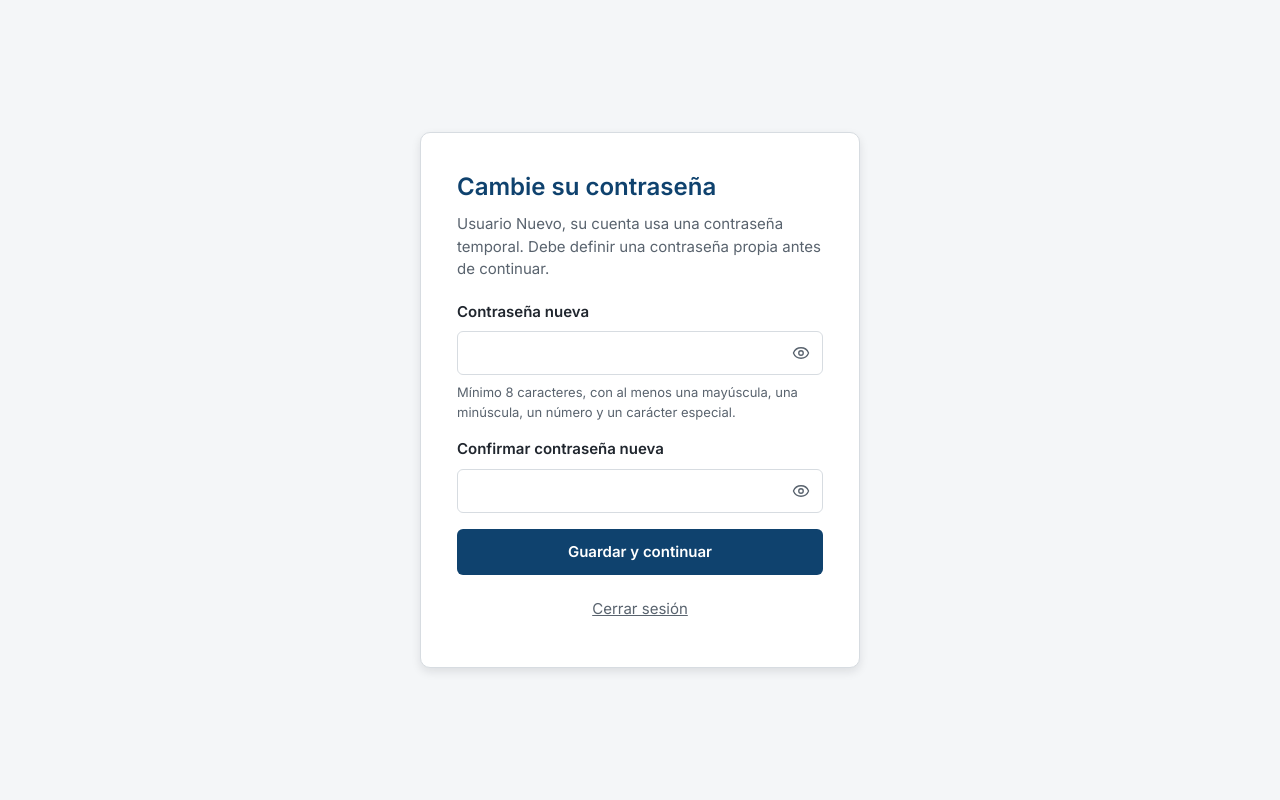
HU-044 - Cambio obligatorio de contraseña en el primer ingreso › definir la contraseña nueva › con exito, guarda, baja la bandera y entra a la aplicacion
In the password field labelled "Contraseña nueva": (640, 353) [457,331,823,375], type "NuevaClave2026!"
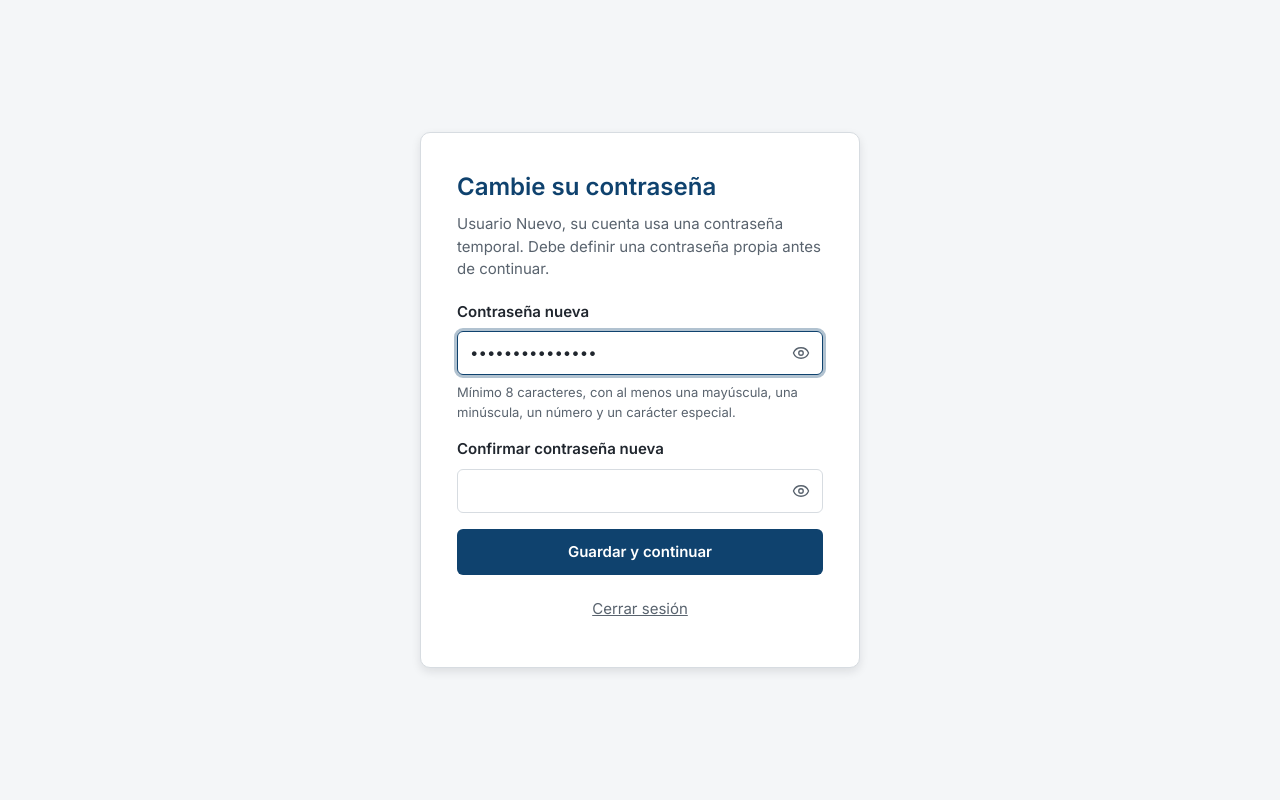
In the password field labelled "Confirmar contraseña nueva": (640, 491) [457,469,823,513], type "NuevaClave2026!"
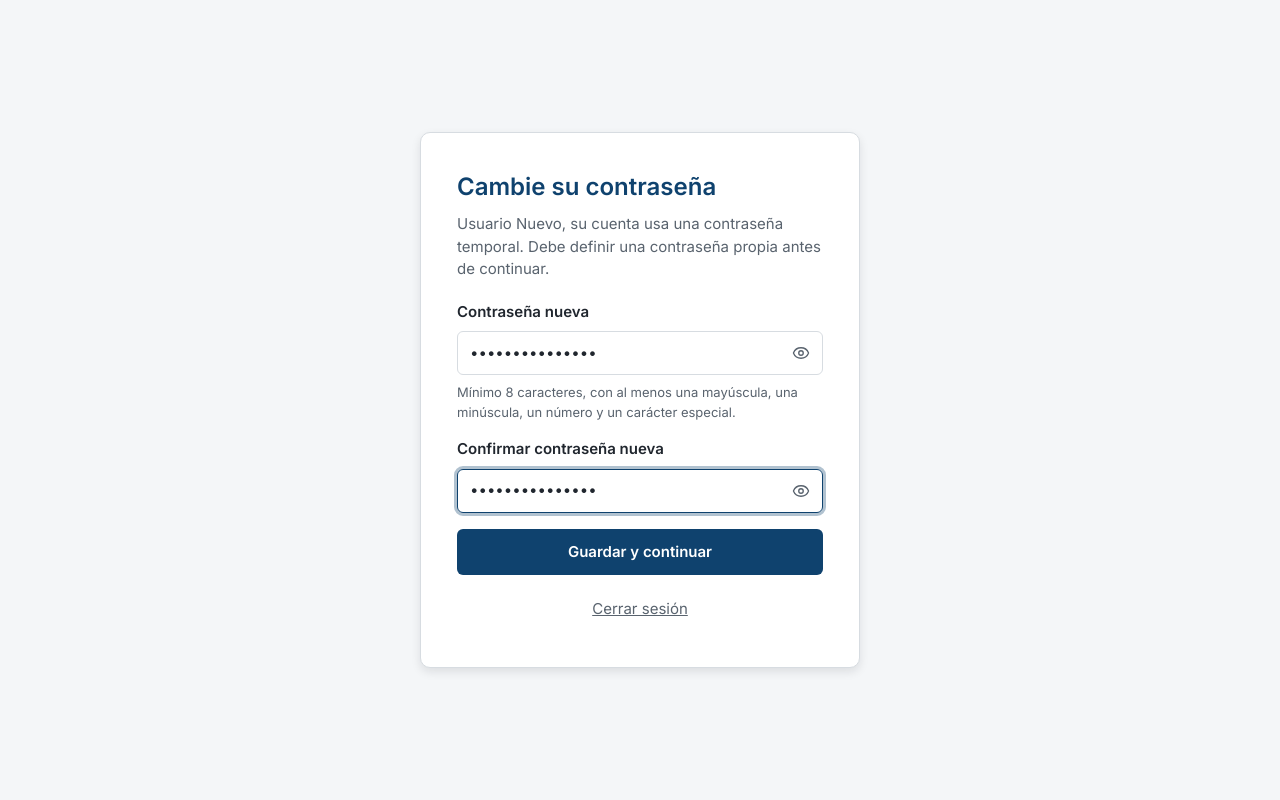
Click the button "Guardar y continuar": (640, 553) [457,529,823,576]
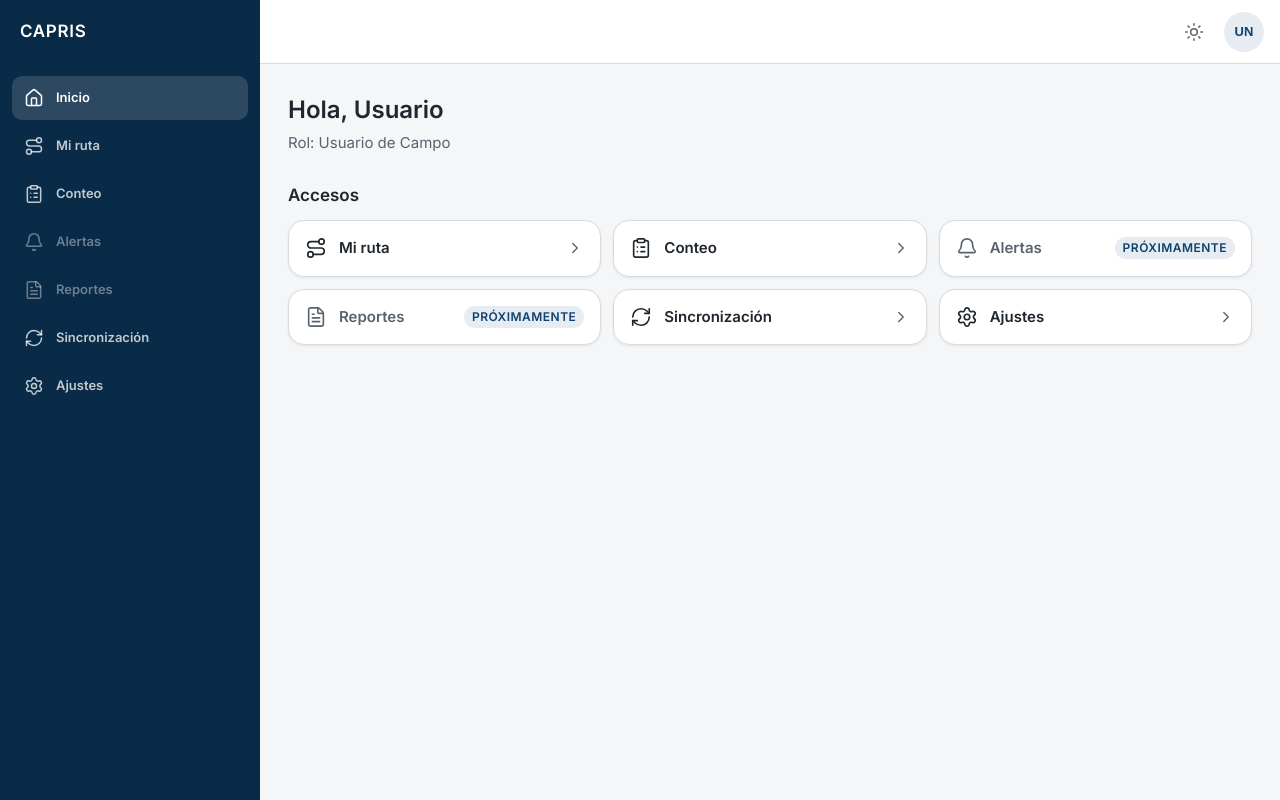
Expected: the heading "Hola, Usuario" is shown, [288,95,444,124]
